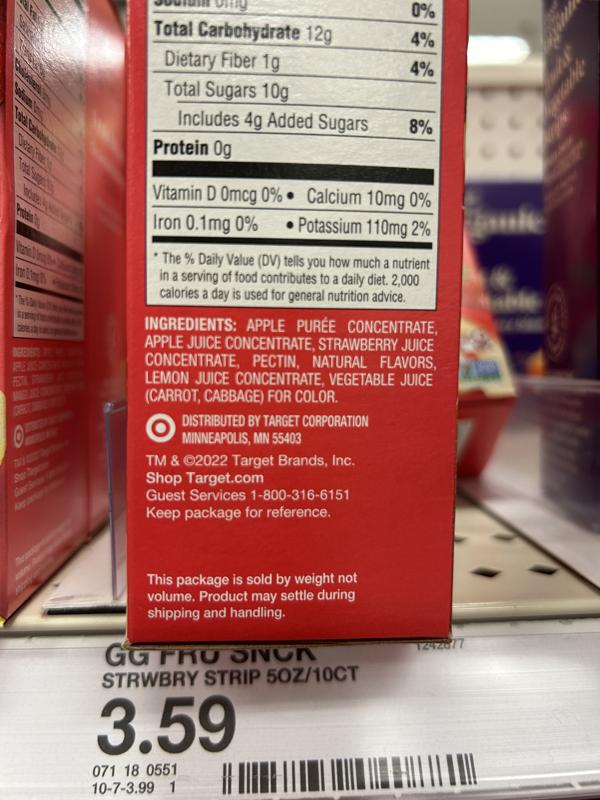ingredients: (141, 313, 439, 407)
